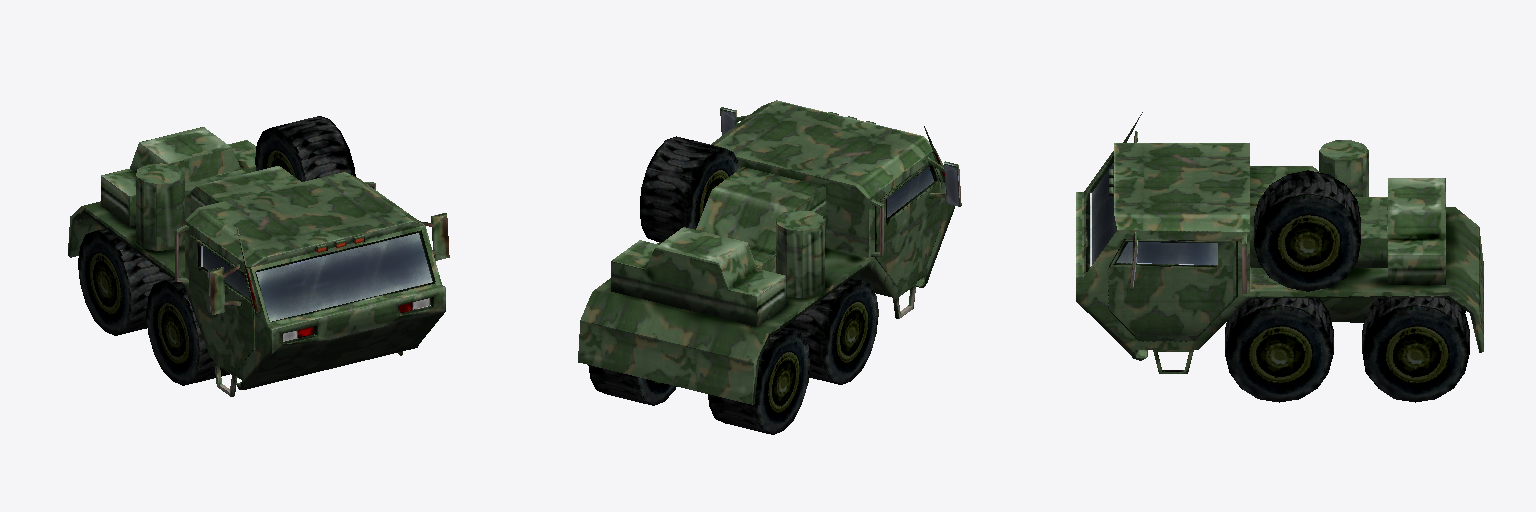
3 renders of one model, left to right at view 1: azimuth 30°, elevation 25°; view 2: azimuth 150°, elevation 25°; view 3: azimuth 270°, elevation 25°, orthographic.
Parts seen in each view (by area): view 1: Group; view 2: Group; view 3: Group.
Boxes of the visible parts, x1=… form: Group: x1=68, y1=116, x2=449, y2=396; Group: x1=578, y1=100, x2=961, y2=434; Group: x1=1076, y1=112, x2=1483, y2=402.
Bounding box in the file's own units: 120 × 101 × 179.
Materials: 1 (1 with a texture image).